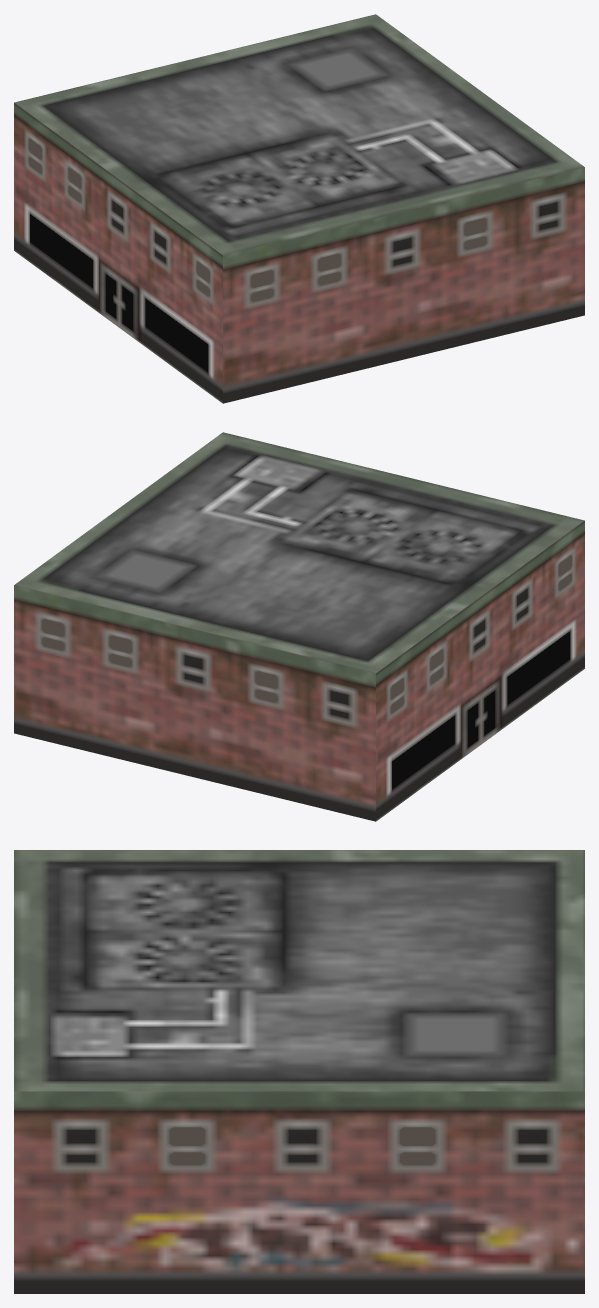
The model's file is city2storyc.glb.
The picture shows the model from 3 angles, top to bottom: view 1: azimuth 30°, elevation 25°; view 2: azimuth 150°, elevation 25°; view 3: azimuth 270°, elevation 25°; orthographic projection. The views are drawn at different scales.
Parts seen in each view (by area): view 1: City2StoryA, LitWin_City2Story; view 2: City2StoryA, LitWin_City2Story; view 3: City2StoryA, LitWin_City2Story.
Part boxes in pixels (left/top/right/bottom): City2StoryA: left=14, top=14, right=584, bottom=403; LitWin_City2Story: left=28, top=138, right=486, bottom=301; City2StoryA: left=14, top=432, right=584, bottom=821; LitWin_City2Story: left=42, top=555, right=571, bottom=713; City2StoryA: left=14, top=850, right=584, bottom=1293; LitWin_City2Story: left=169, top=1127, right=435, bottom=1164.
Bounding box in the file's own units: 17.76 × 6.95 × 17.76.
1 material, 1 textured.
